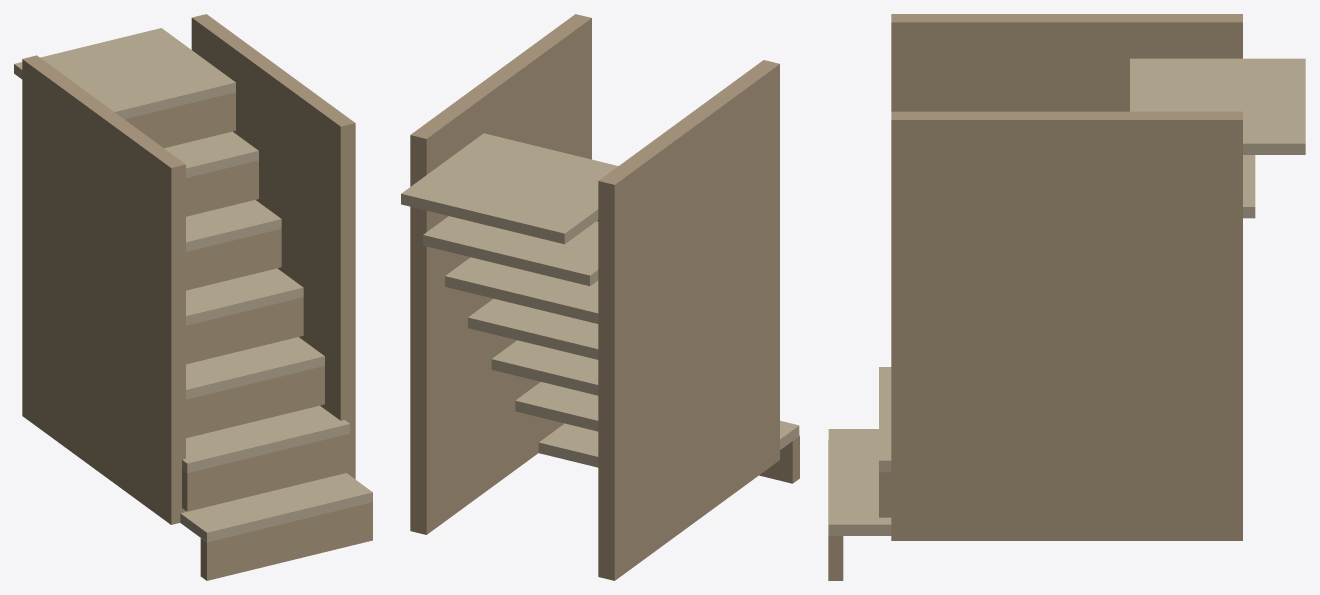
File: trench-line-1917-dugout-stair-b2428cfd__24063.glb
3 renders of one model, left to right at view 1: azimuth 30°, elevation 25°; view 2: azimuth 150°, elevation 25°; view 3: azimuth 270°, elevation 25°, orthographic. The views are drawn at different scales.
Visible parts, largest first — view 1: dugout-stair; view 2: dugout-stair; view 3: dugout-stair.
Boxes of the visible parts, <box> form: dugout-stair: <box>14,14,372,580</box>; dugout-stair: <box>401,14,799,580</box>; dugout-stair: <box>828,14,1305,580</box>.
Bounding box in the file's own units: 1 × 2.05 × 1.9.
